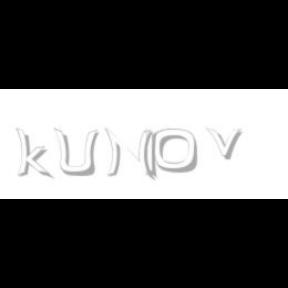N: (104, 128, 152, 180)
O: (154, 128, 198, 174)
U: (53, 128, 98, 178)
k: (15, 128, 53, 180)
l: (145, 128, 161, 180)
v: (206, 128, 246, 160)
